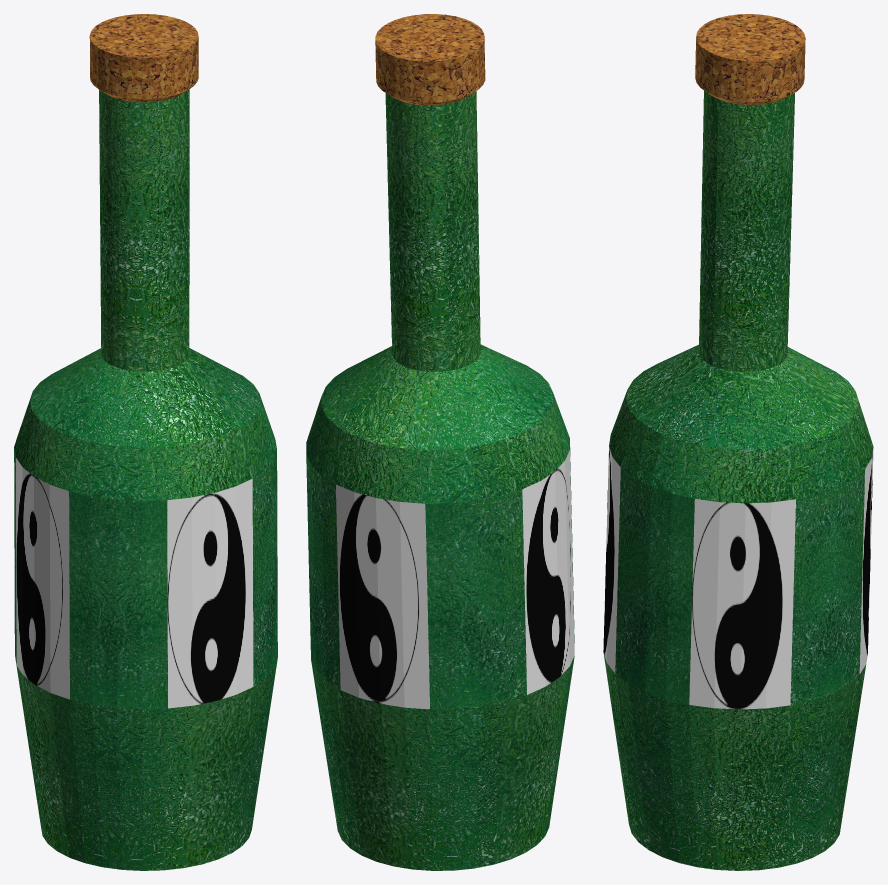
File: bottle.fbx
The picture shows the model from 3 angles, left to right: view 1: azimuth 30°, elevation 25°; view 2: azimuth 150°, elevation 25°; view 3: azimuth 270°, elevation 25°; orthographic projection.
Parts seen in each view (by area): view 1: Cylinder.001; view 2: Cylinder.001; view 3: Cylinder.001.
Part boxes in pixels (left/top/right/bottom): Cylinder.001: left=14, top=14, right=277, bottom=870; Cylinder.001: left=306, top=14, right=574, bottom=870; Cylinder.001: left=603, top=14, right=873, bottom=870.
Size of the model in its own units: 28.85 by 94.69 by 29.2.
3 materials, 3 textured.
